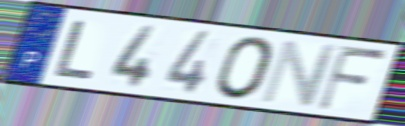4: (108, 23, 160, 91), (164, 29, 210, 96)
F: (314, 42, 390, 113)
L: (50, 18, 97, 82)
N: (257, 39, 341, 108)
O: (214, 34, 278, 102)
